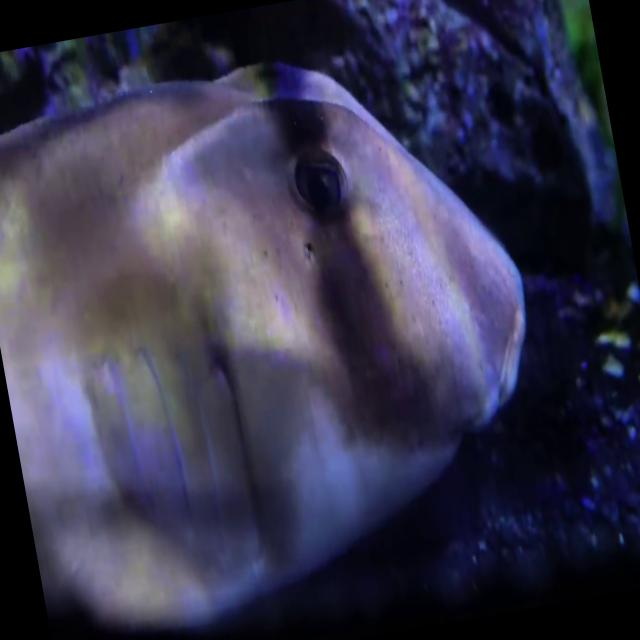fish: (0, 23, 565, 640)
